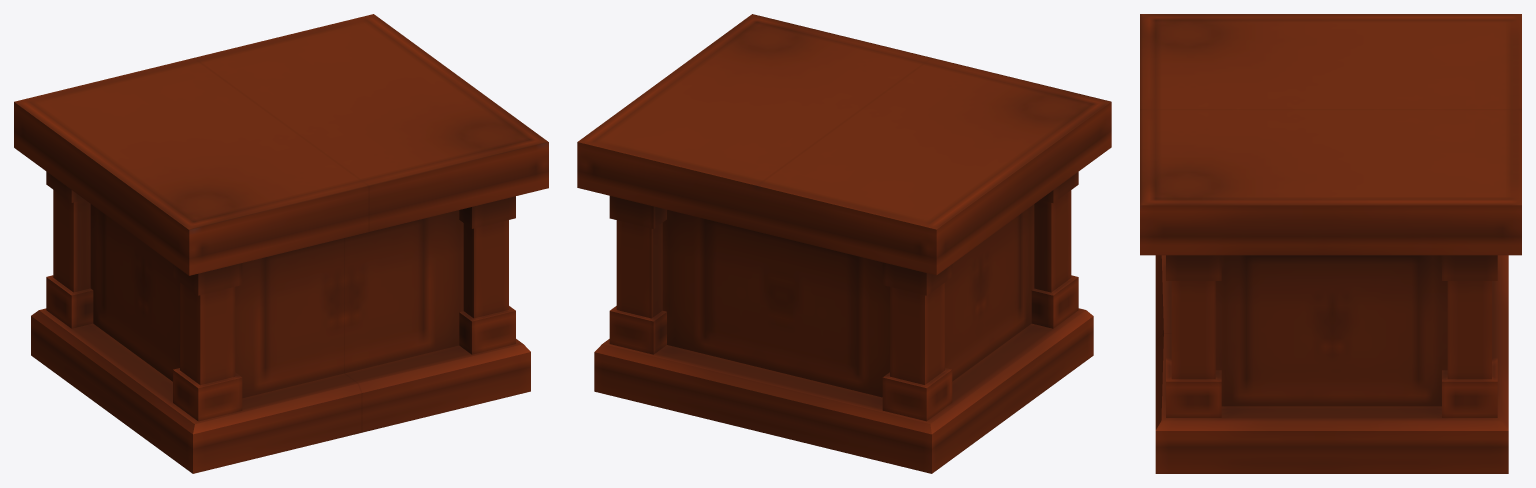
File: Church_Table.FBX
The picture shows the model from 3 angles, left to right: view 1: azimuth 30°, elevation 25°; view 2: azimuth 150°, elevation 25°; view 3: azimuth 270°, elevation 25°; orthographic projection. The views are drawn at different scales.
Visible parts, largest first — view 1: Church_Table; view 2: Church_Table; view 3: Church_Table.
Boxes of the visible parts, x1=… form: Church_Table: x1=14, y1=14, x2=548, y2=473; Church_Table: x1=577, y1=14, x2=1111, y2=473; Church_Table: x1=1140, y1=14, x2=1521, y2=473.
Bounding box in the file's own units: 60.08 × 40.18 × 50.67.
